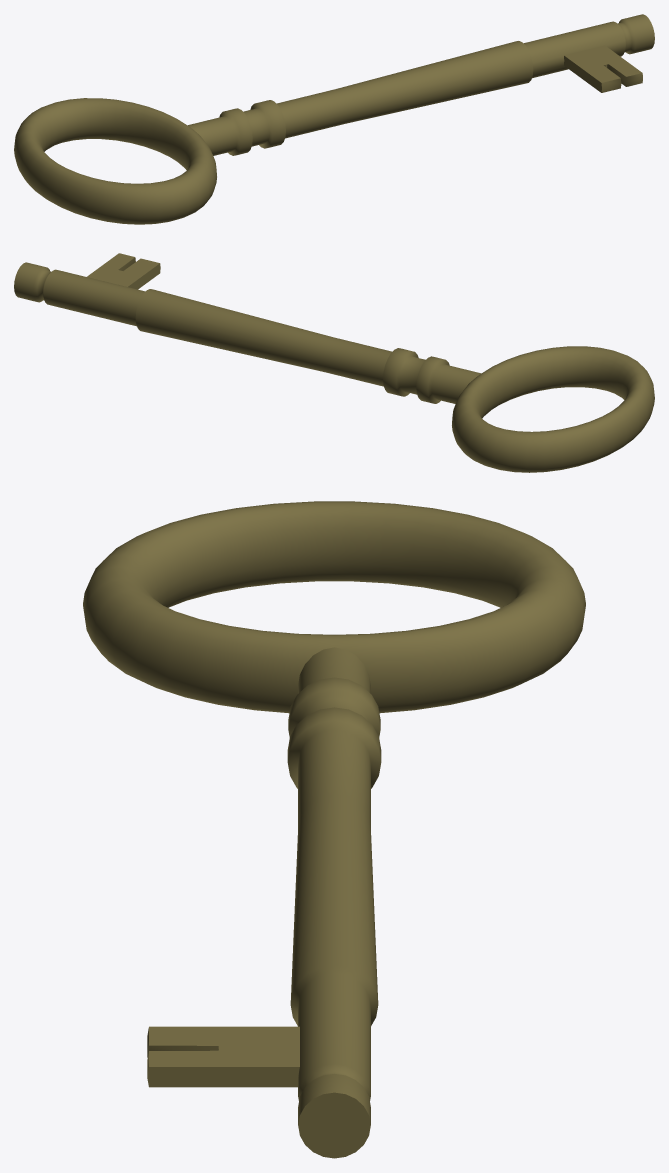
The model's file is Key.fbx.
3 views of the same model, one above another, from view 1: azimuth 30°, elevation 25°; view 2: azimuth 150°, elevation 25°; view 3: azimuth 270°, elevation 25° (orthographic). The views are drawn at different scales.
Visible parts, largest first — view 1: pCylinder2; view 2: pCylinder2; view 3: pCylinder2.
Part boxes in pixels (<box>): pCylinder2: <box>14,14,654,224</box>; pCylinder2: <box>14,253,654,472</box>; pCylinder2: <box>83,501,585,1158</box>.
Bounding box in the file's own units: 474 × 31.47 × 169.
